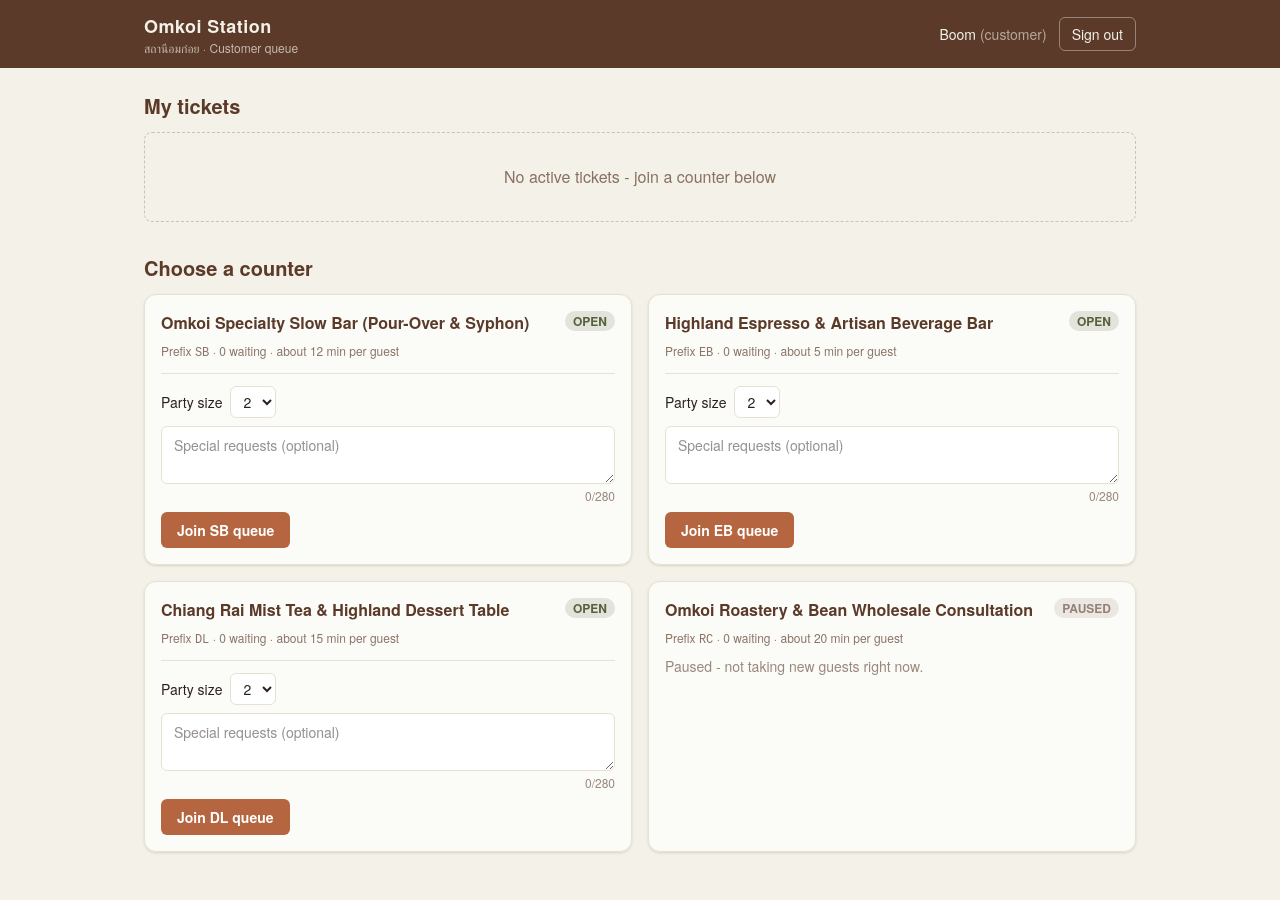
Test case: TEST-13 / AC-04, NFR-05: customer queue portal (component, mocked API) › shows the empty state; joining shows SB-001 WAITING with 0 ahead
expect the text "No active tickets - join a counter below" is shown: met, box [144,132,1136,222]
Select "3" in the dropdown labelled "Party size" below "12" at x=254, y=402, box [230,386,276,418]
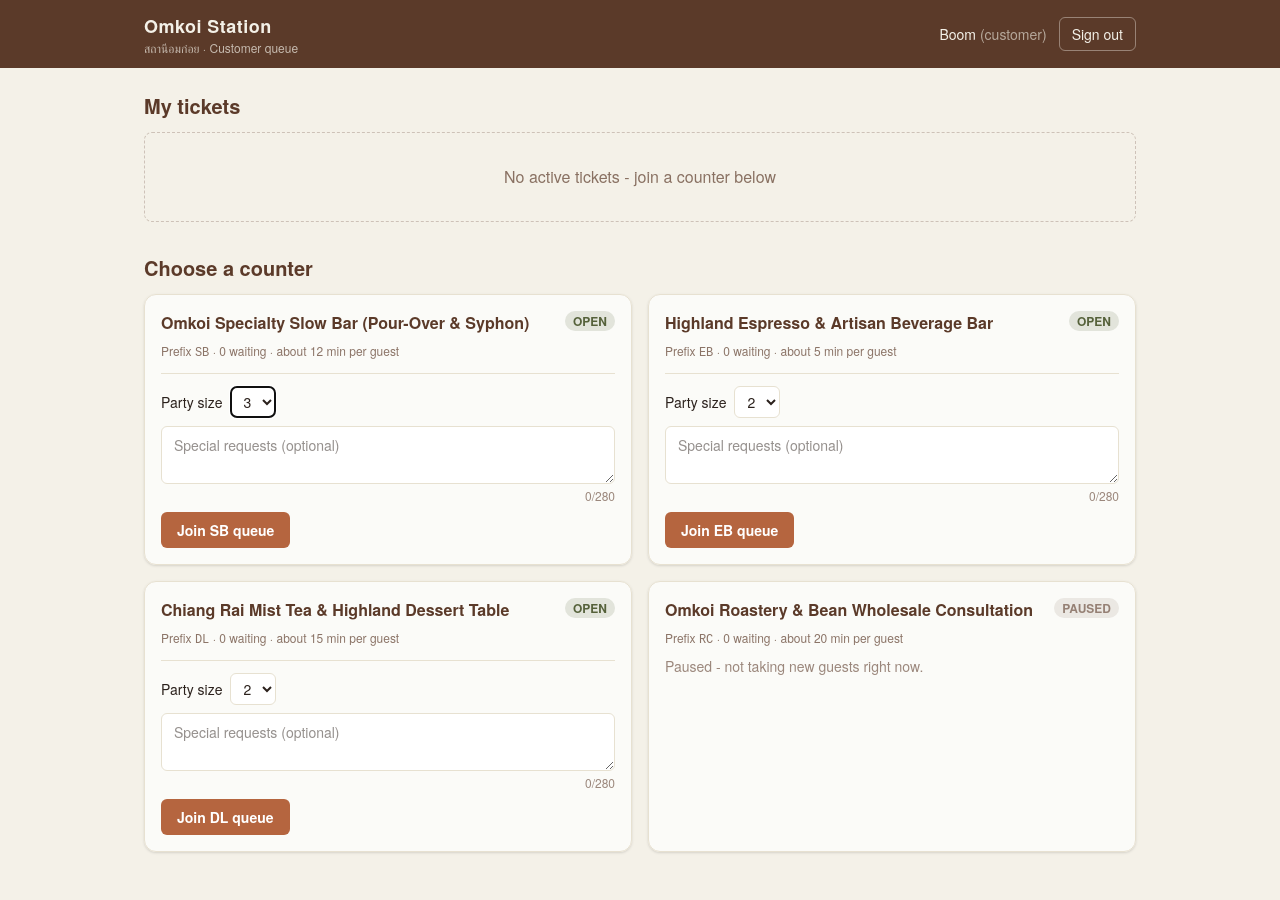
Click the button "Join SB queue" at x=226, y=530, box [161,512,290,548]
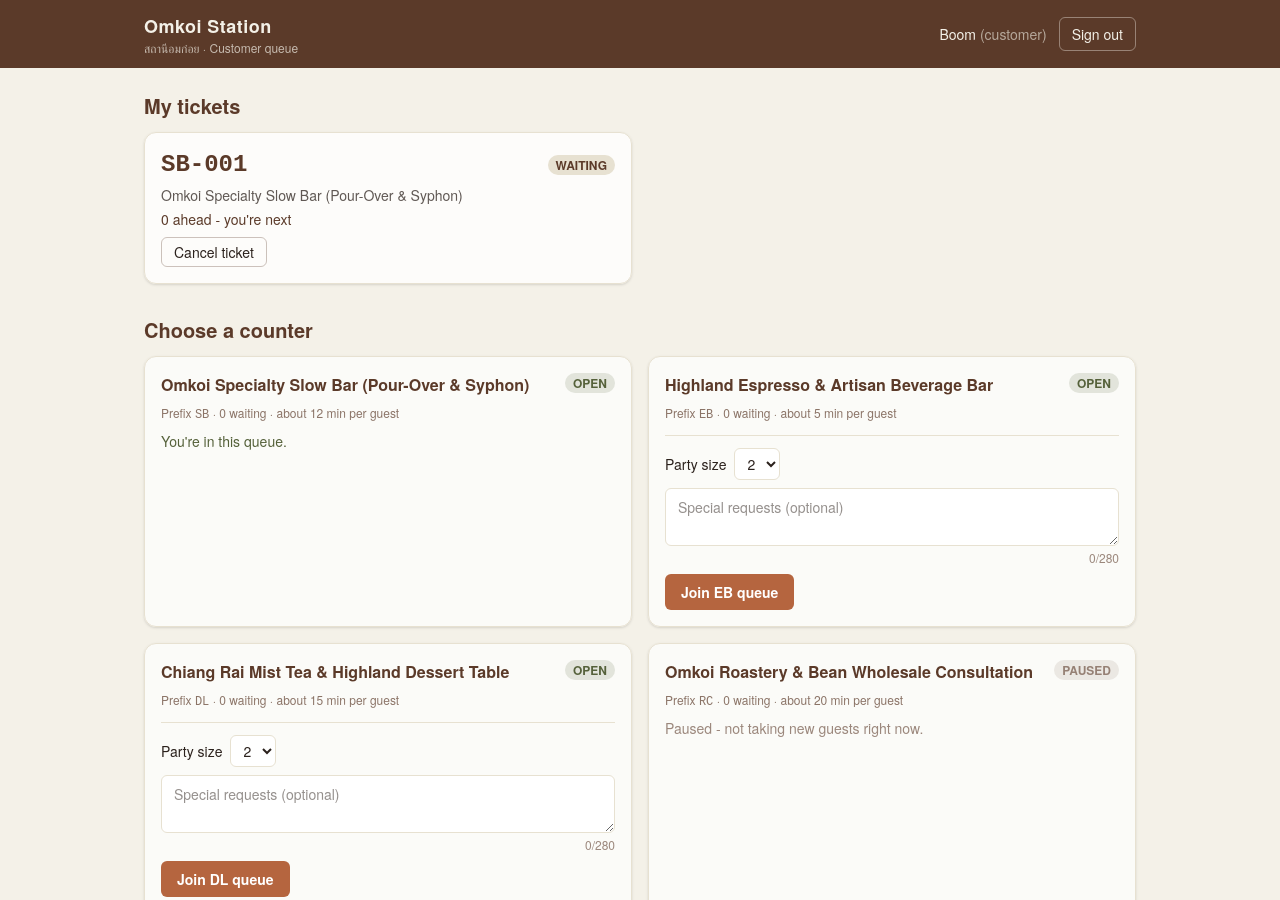
expect the text "WAITING" is shown: met, box [548,155,615,175]
expect the text "0 ahead - you're next" is shown: met, box [161,209,291,229]
expect the text "You're in this queue." is shown: met, box [161,431,287,451]
